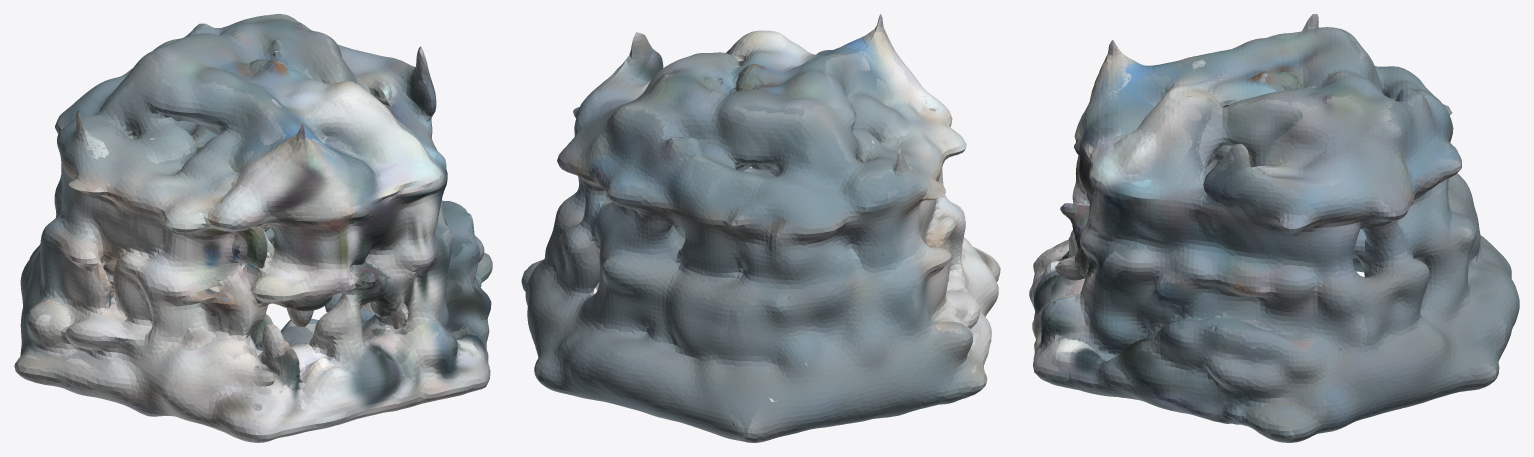
The picture shows the model from 3 angles, left to right: view 1: azimuth 30°, elevation 25°; view 2: azimuth 150°, elevation 25°; view 3: azimuth 270°, elevation 25°; orthographic projection. The views are drawn at different scales.
Bounding box in the file's own units: 1.44 × 0.8463 × 1.32.
Materials: 1 (1 with a texture image).
